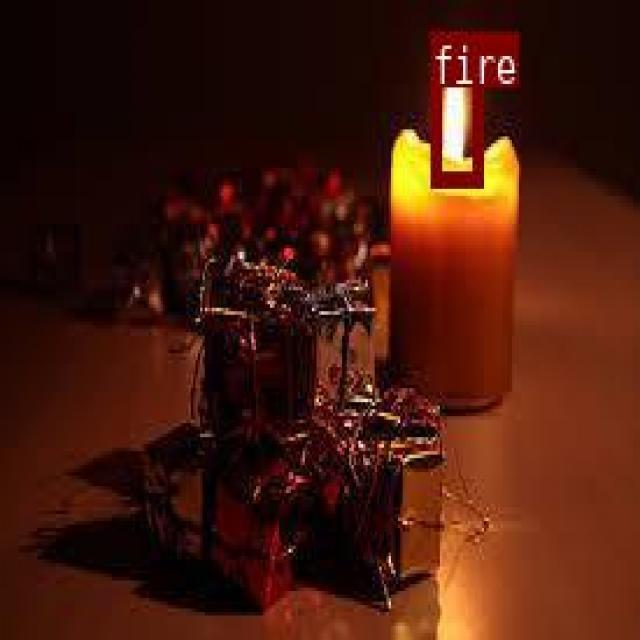fire: (429, 30, 482, 183)
